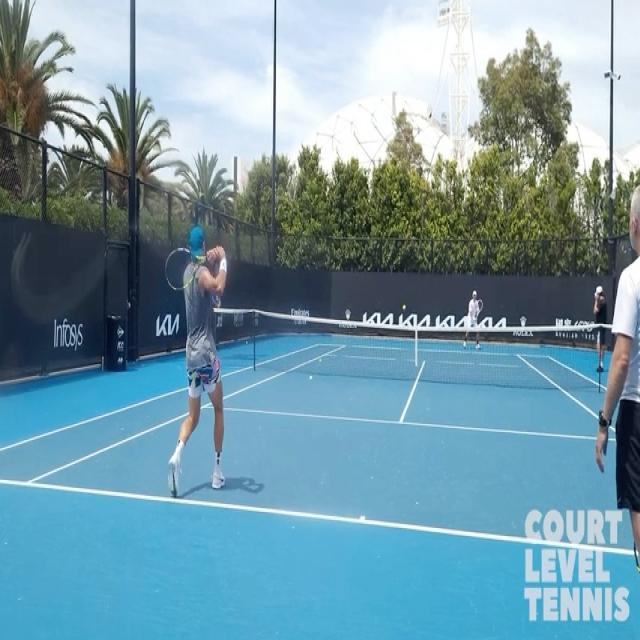backhand-finish: (164, 193, 243, 521)
